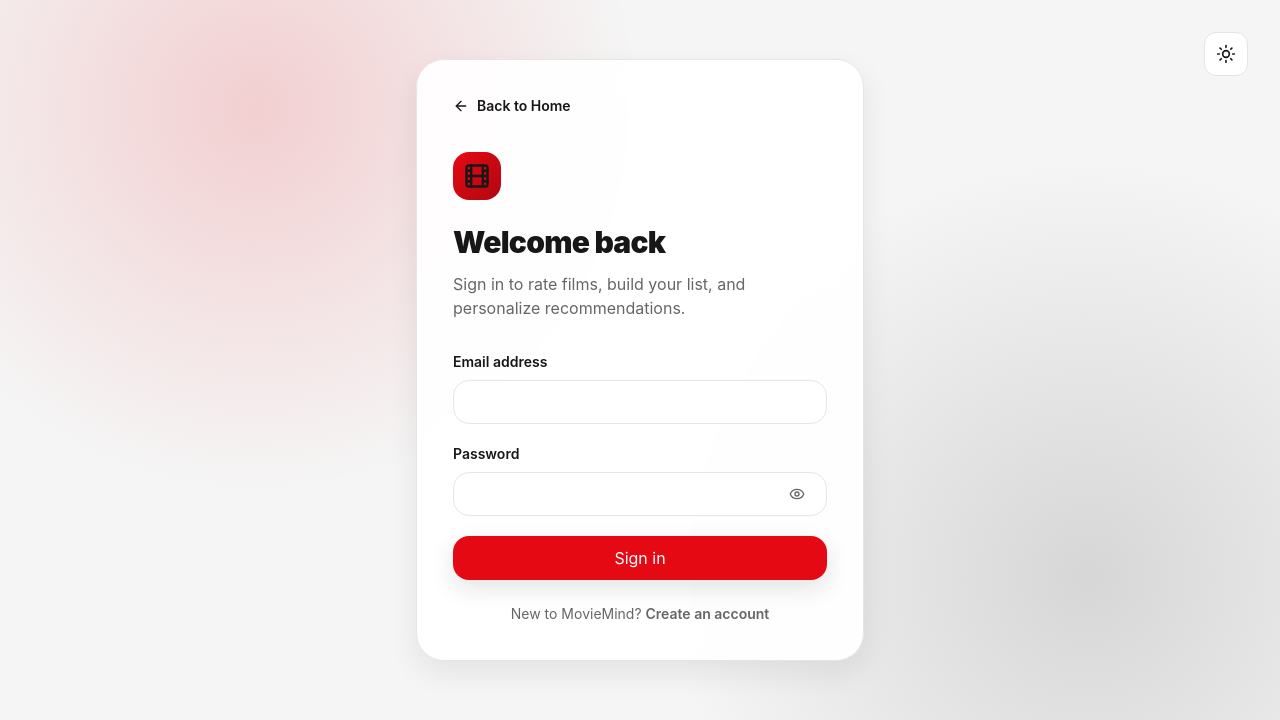
Test case: AuthPage › blocks empty login submission with inline field errors
Click the button "Sign in" at (640, 558), box [453,536,827,580]
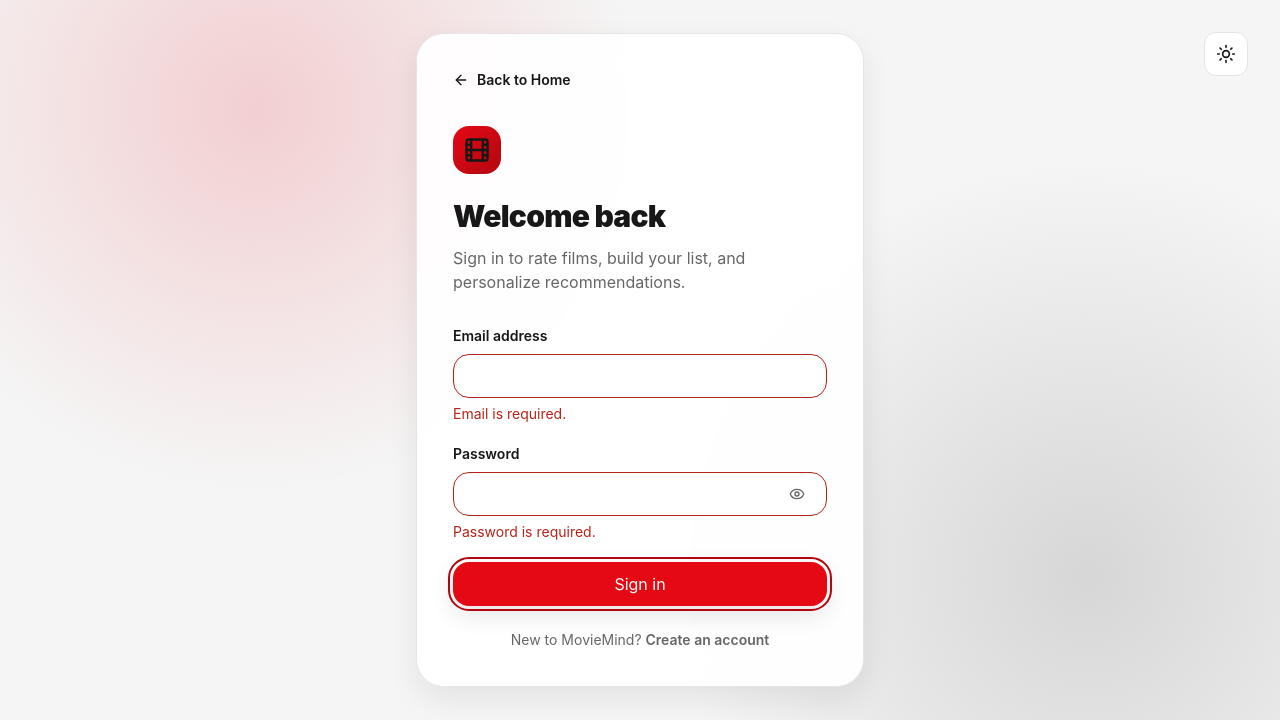
Now the text "Email is required." is shown, box [453,405,566,422]
Now the text "Password is required." is shown, box [453,523,596,540]
